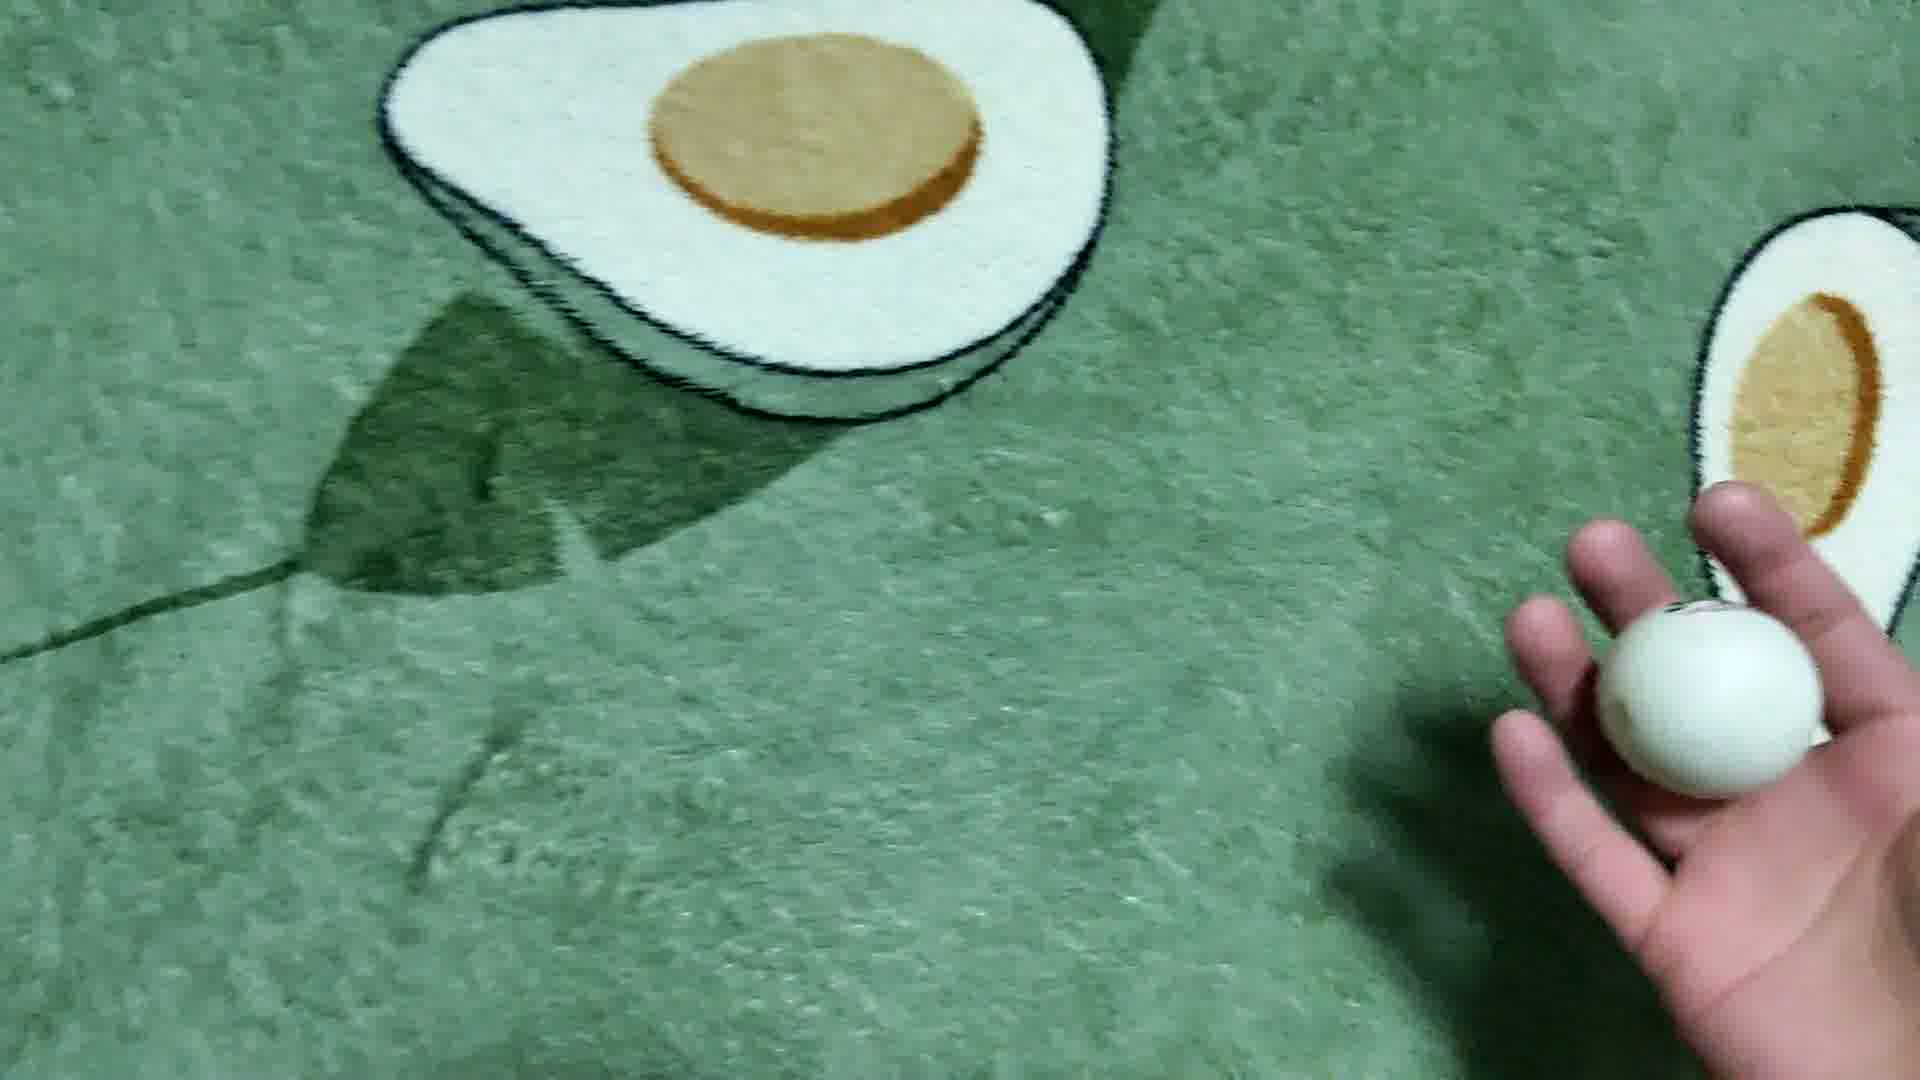Ball: (1596, 595, 1826, 803)
